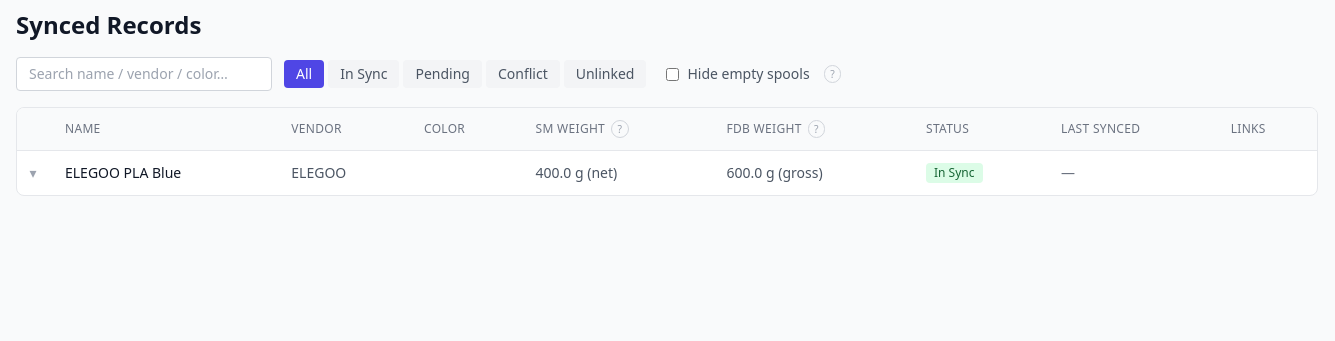
Test case: SyncedRecords — Weight net/gross labels › labels the expanded Weight row (net) on Spoolman and (gross) on Filament DB
Click the text "ELEGOO PLA Blue" at (162, 172), box left=49, top=150, right=275, bottom=195
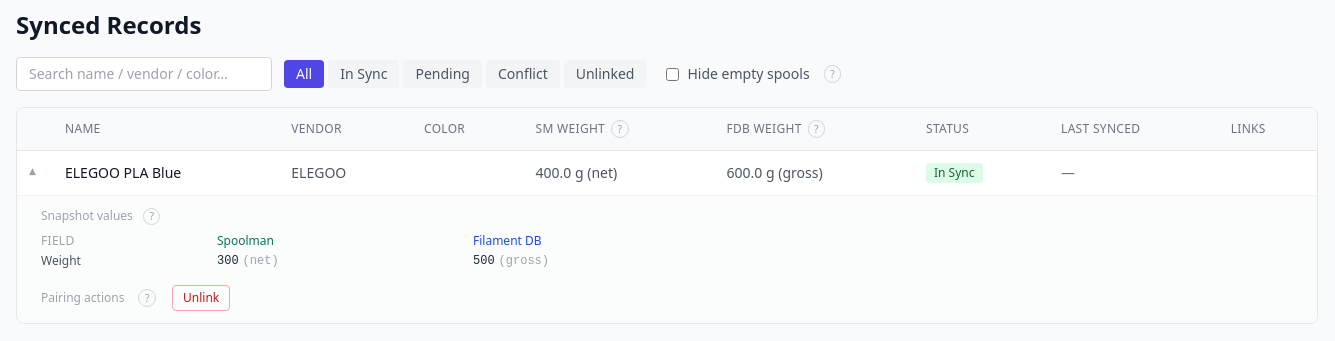
Expected: the text "(net)" is shown, left=243, top=254, right=279, bottom=268
Expected: the text "(gross)" is shown, left=499, top=254, right=549, bottom=268
